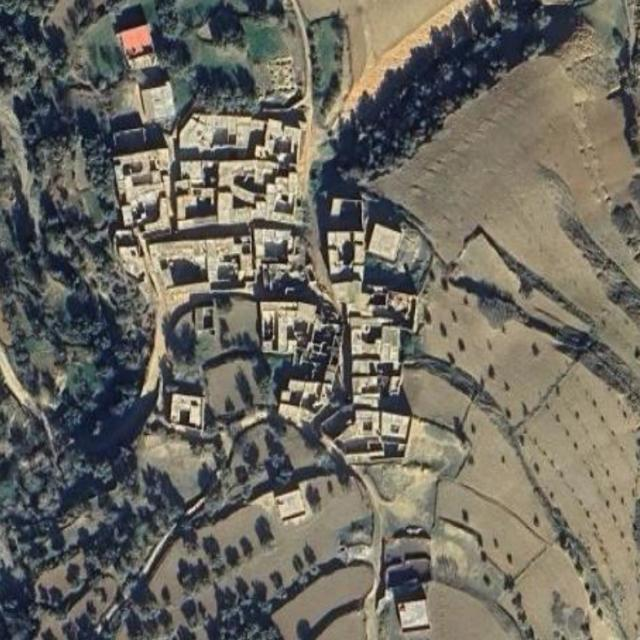Countryside roofs: (168, 150, 298, 233), (112, 148, 176, 235), (342, 310, 411, 362), (312, 225, 370, 286), (176, 108, 253, 153), (110, 22, 176, 74), (373, 588, 438, 640), (135, 82, 185, 129), (342, 364, 390, 410), (162, 392, 212, 435), (269, 496, 326, 532), (186, 306, 226, 344), (373, 227, 416, 262), (344, 406, 382, 444), (377, 419, 419, 445)
